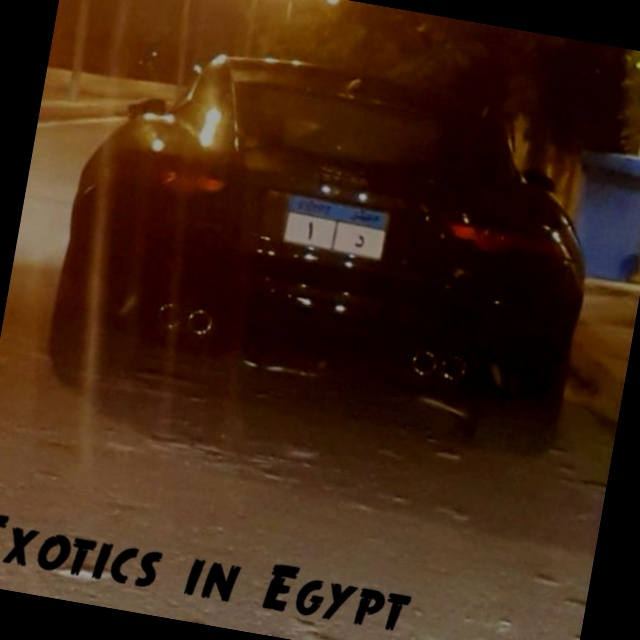License Plate: (278, 192, 393, 265)
